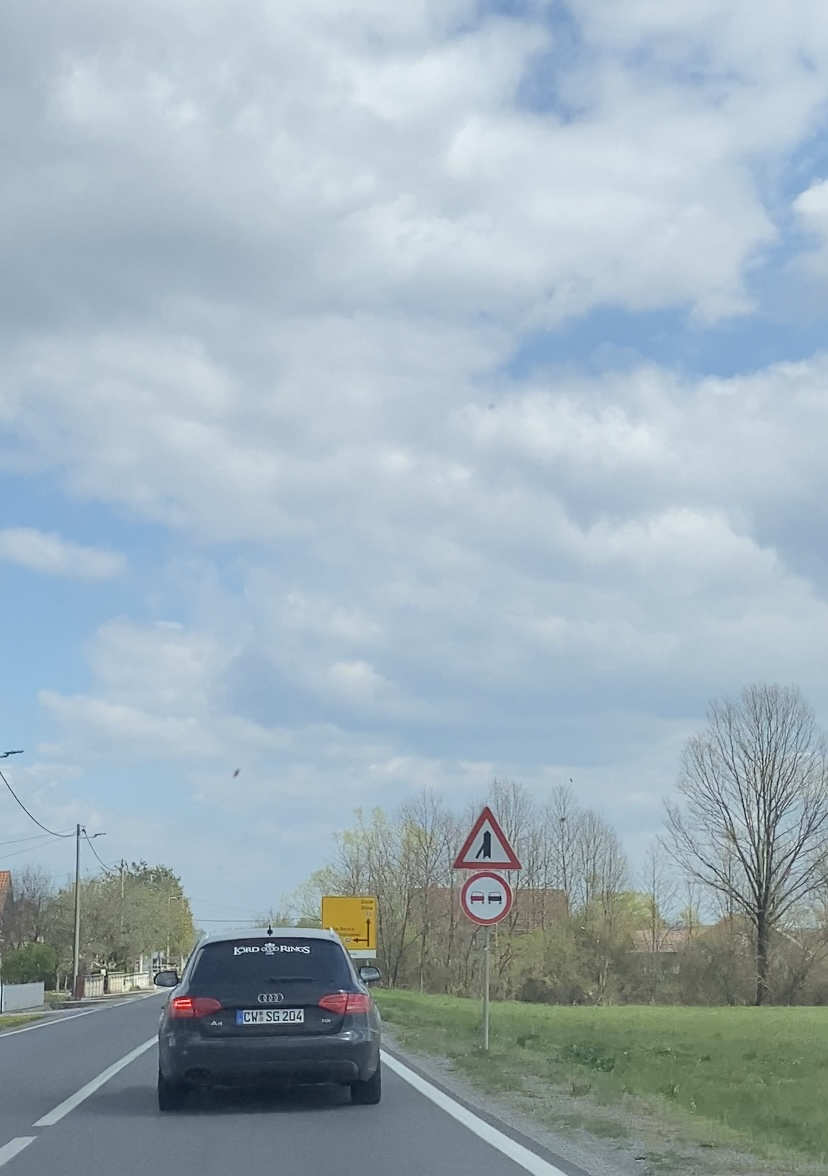Zabrana pretjecanja: (460, 871, 513, 926)
